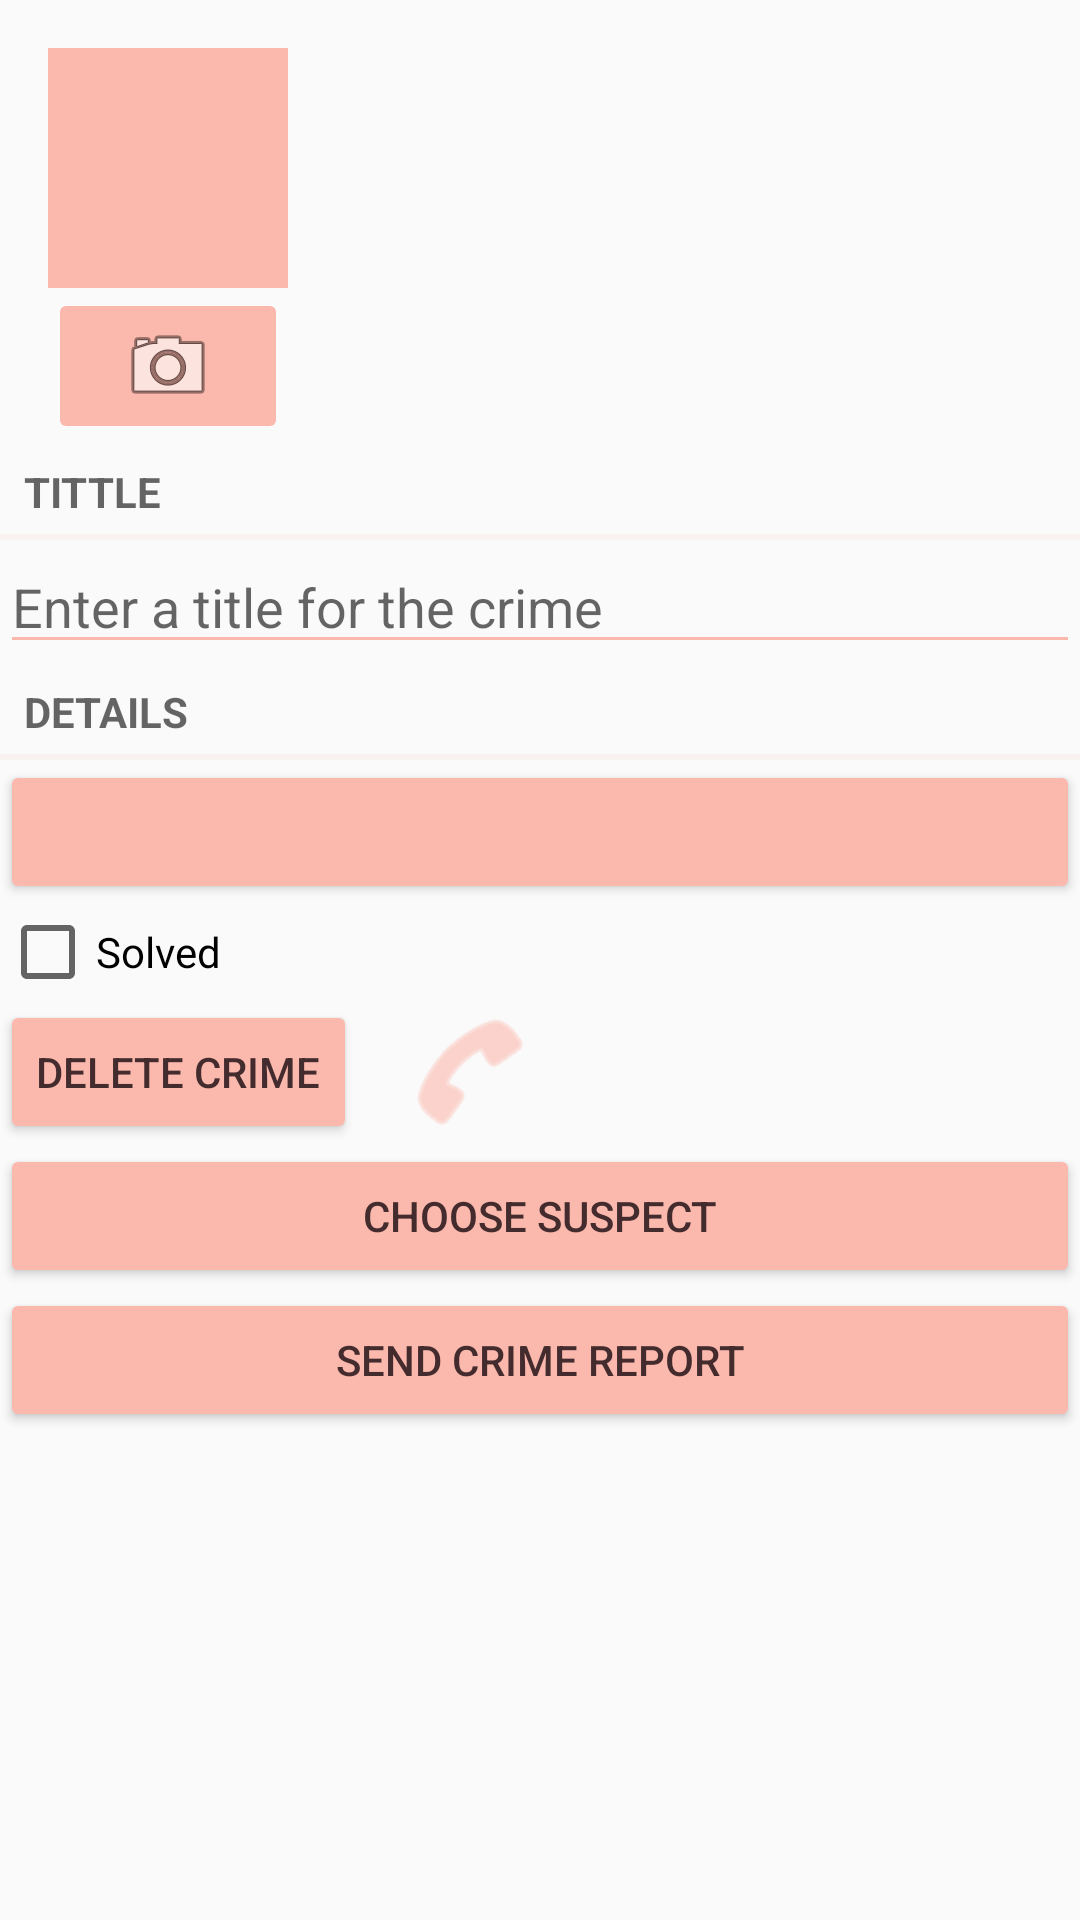

Point at icon controls on the screen. Image size 1080w x 1920h, points as (x,y).
call: (470,1072)
camera: (168,366)
